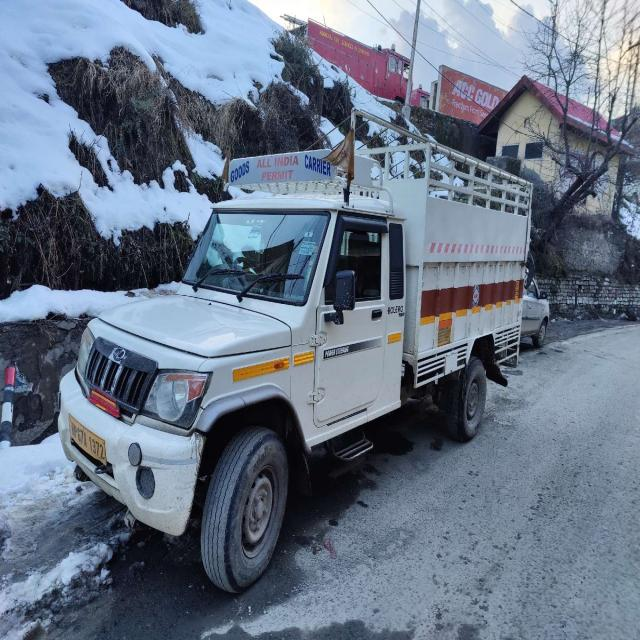light_vehicle: (60, 196, 521, 529)
